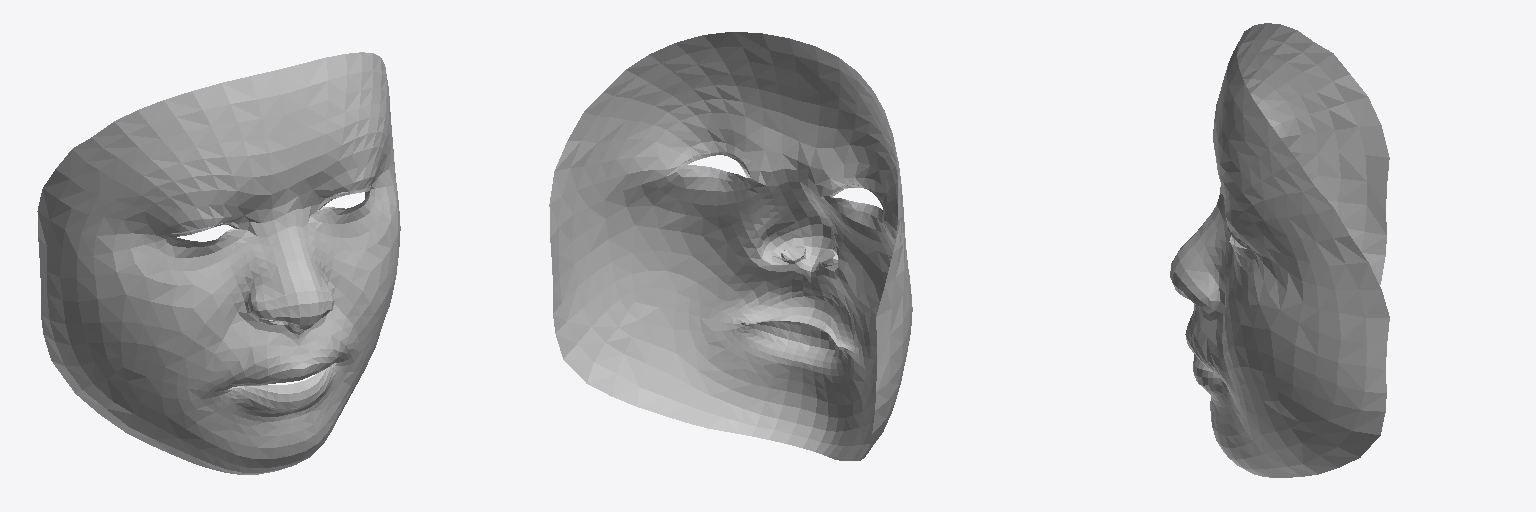
Rendered from noseSneer_R.obj.
3 views of the same model, side by side, from view 1: azimuth 30°, elevation 25°; view 2: azimuth 150°, elevation 25°; view 3: azimuth 270°, elevation 25° (orthographic).
Visible parts, largest first — view 1: default; view 2: default; view 3: default.
Boxes of the visible parts, x1=… form: default: x1=37, y1=52, x2=400, y2=474; default: x1=549, y1=32, x2=912, y2=460; default: x1=1170, y1=23, x2=1389, y2=477.
Size of the model in its own units: 0.1624 by 0.1851 by 0.0914.